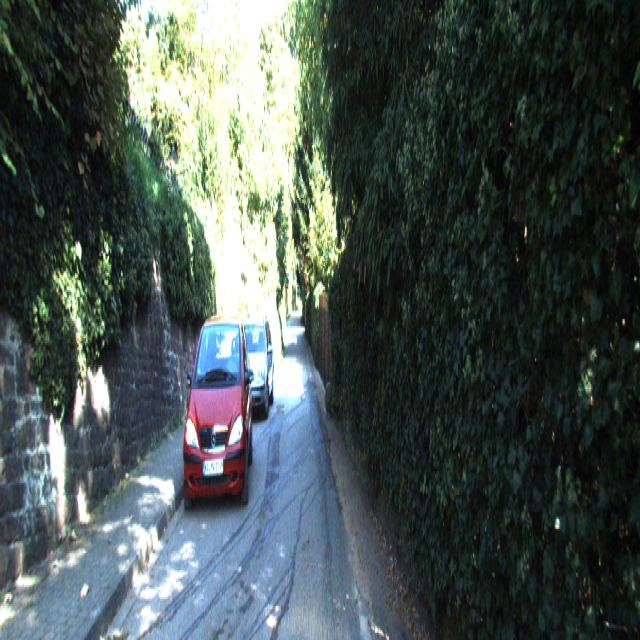Car: (180, 309, 254, 524), (230, 313, 274, 431)
